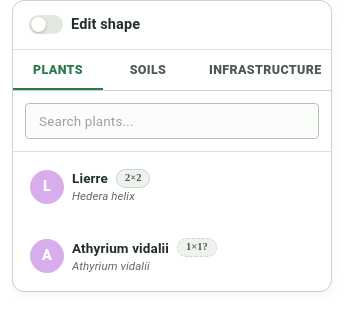
PlantSidebar (SMA-194) › unknown-footprint badge explains itself: tooltip + combined aria; known badges do not (R2)
Check: the text named "1×1 — Unknown spacing — manual setting" reads "1×1?", box [186,241,208,252]
Hover over the text named "1×1 — Unknown spacing — manual setting" at (197, 248), box [177,238,217,257]
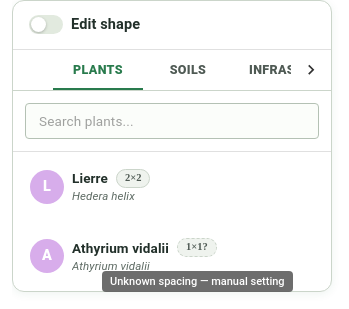
Check: the tooltip reads "Unknown spacing — manual setting", box [110,275,285,288]
